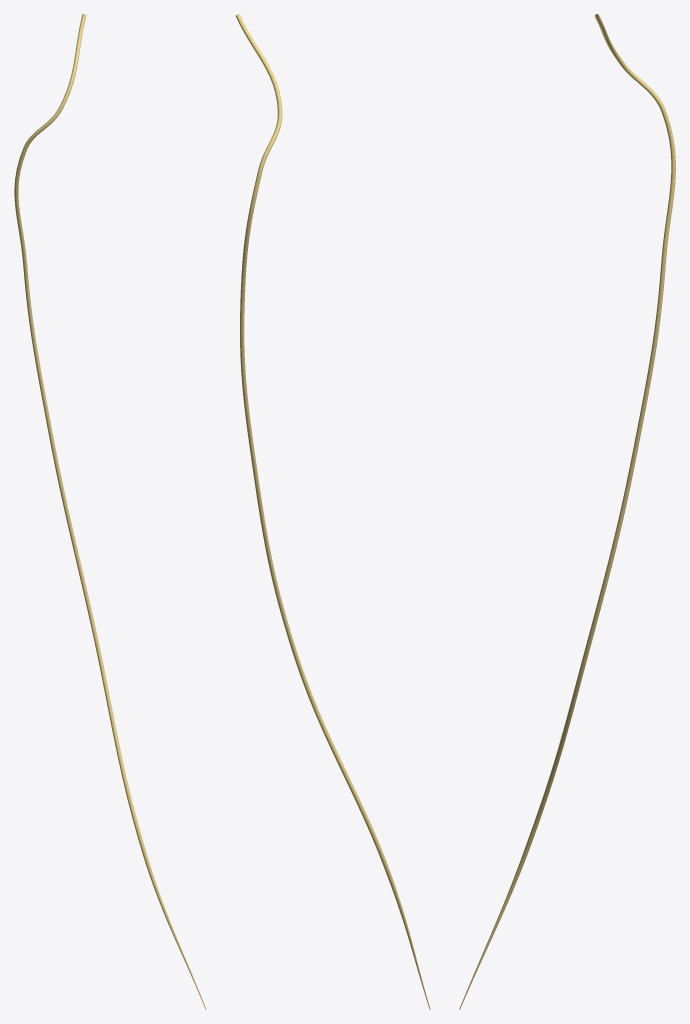
3 views of the same model, side by side, from view 1: azimuth 90°, elevation 25°; view 2: azimuth 150°, elevation 25°; view 3: azimuth 270°, elevation 25° (orthographic). The views are drawn at different scales.
Visible parts, largest first — view 1: ZA_c412b99240c55783; view 2: ZA_c412b99240c55783; view 3: ZA_c412b99240c55783.
Boxes of the visible parts, x1=… form: ZA_c412b99240c55783: x1=14, y1=14, x2=206, y2=1009; ZA_c412b99240c55783: x1=235, y1=14, x2=430, y2=1009; ZA_c412b99240c55783: x1=459, y1=14, x2=675, y2=1009.
Size of the model in its own units: 0.0328 by 0.2466 by 0.0457.
